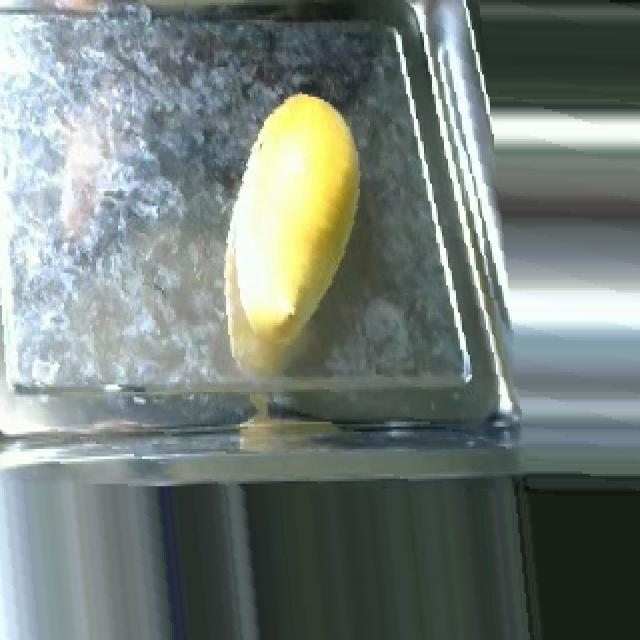fruit: (206, 77, 384, 347)
